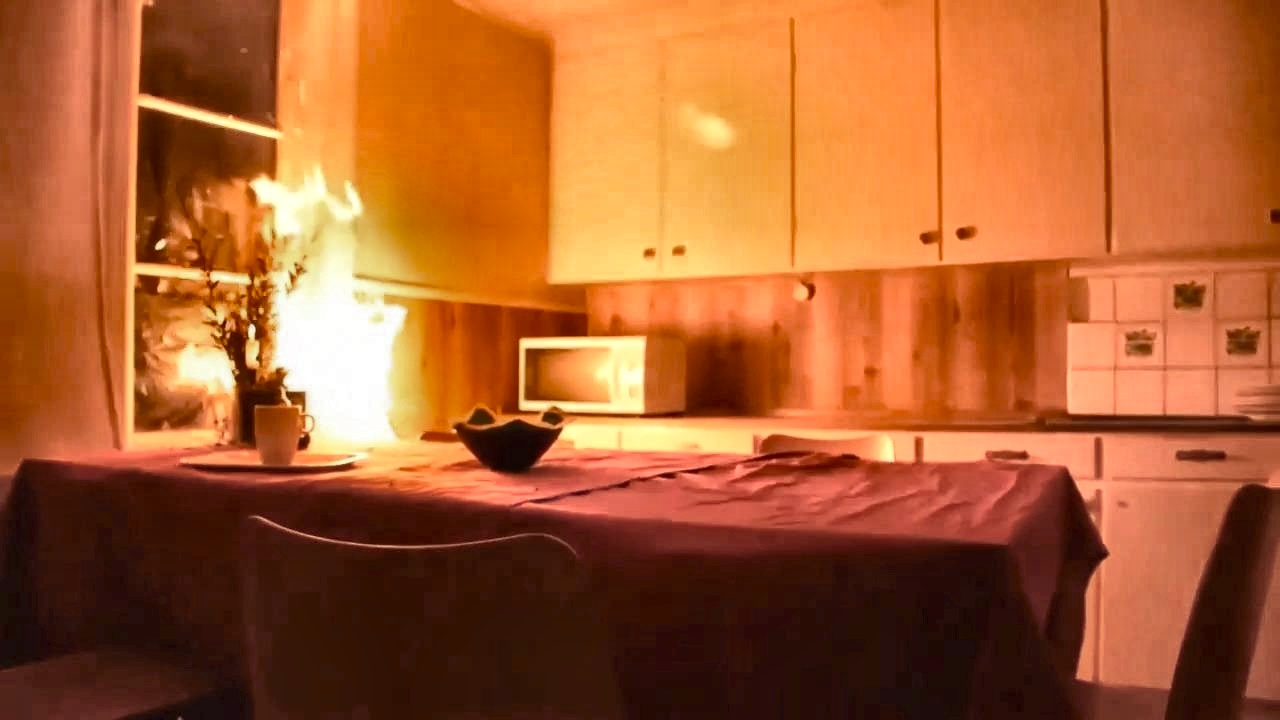fire: (156, 145, 432, 462)
